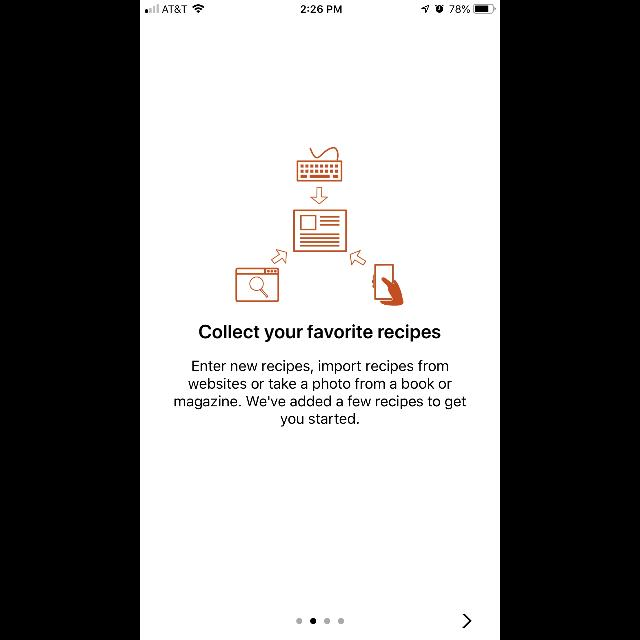icon: (462, 614, 472, 628)
image: (236, 147, 404, 306)
pageindicator: (296, 618, 344, 624)
text: (174, 359, 466, 426), (199, 324, 441, 342)
uppertaskbar: (140, 0, 500, 14)
